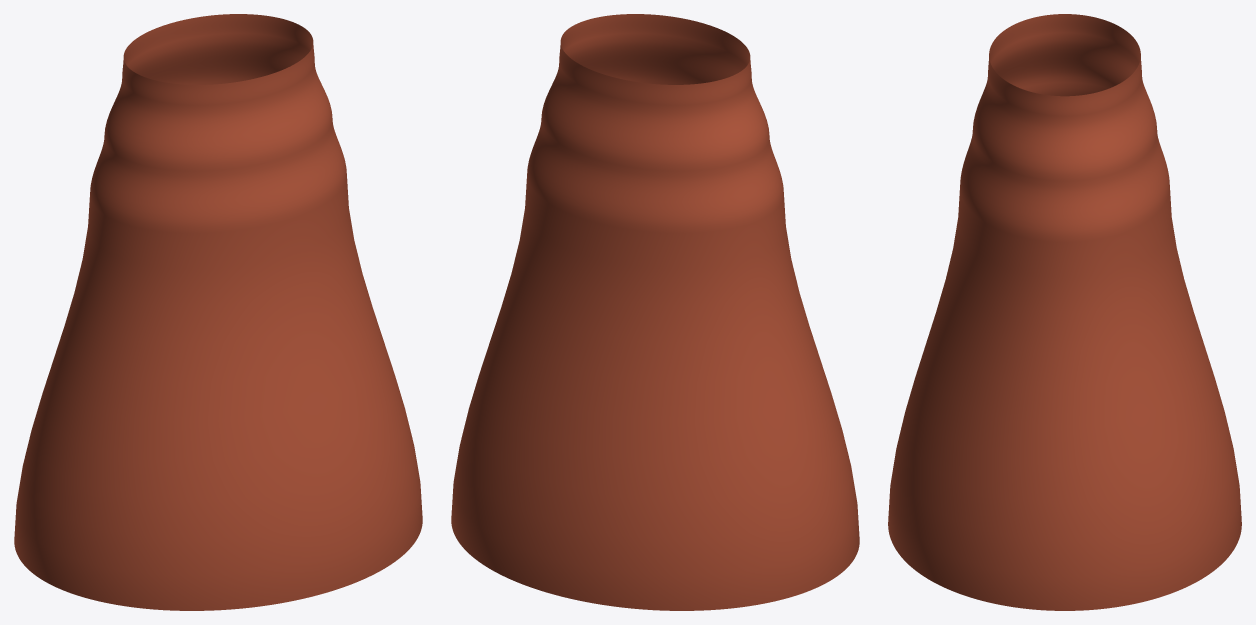
File: demo-a-line-skirt--terracotta--l.r2.glb
3 renders of one model, left to right at view 1: azimuth 30°, elevation 25°; view 2: azimuth 150°, elevation 25°; view 3: azimuth 270°, elevation 25°, orthographic. The views are drawn at different scales.
Visible parts, largest first — view 1: demo-a-line-skirt--terracotta--l; view 2: demo-a-line-skirt--terracotta--l; view 3: demo-a-line-skirt--terracotta--l.
Part boxes in pixels (left/top/right/bottom): demo-a-line-skirt--terracotta--l: left=14, top=14, right=422, bottom=610; demo-a-line-skirt--terracotta--l: left=451, top=14, right=859, bottom=610; demo-a-line-skirt--terracotta--l: left=888, top=14, right=1241, bottom=610.
Size of the model in its own units: 0.6084 by 0.765 by 0.5232.
